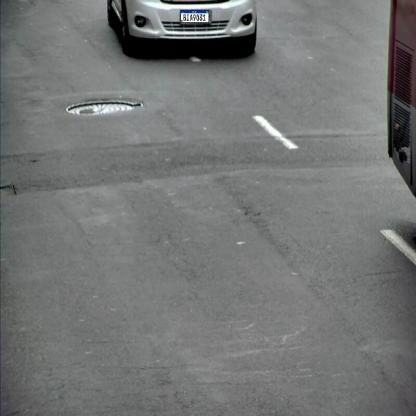PlacaM: (180, 10, 209, 23)
